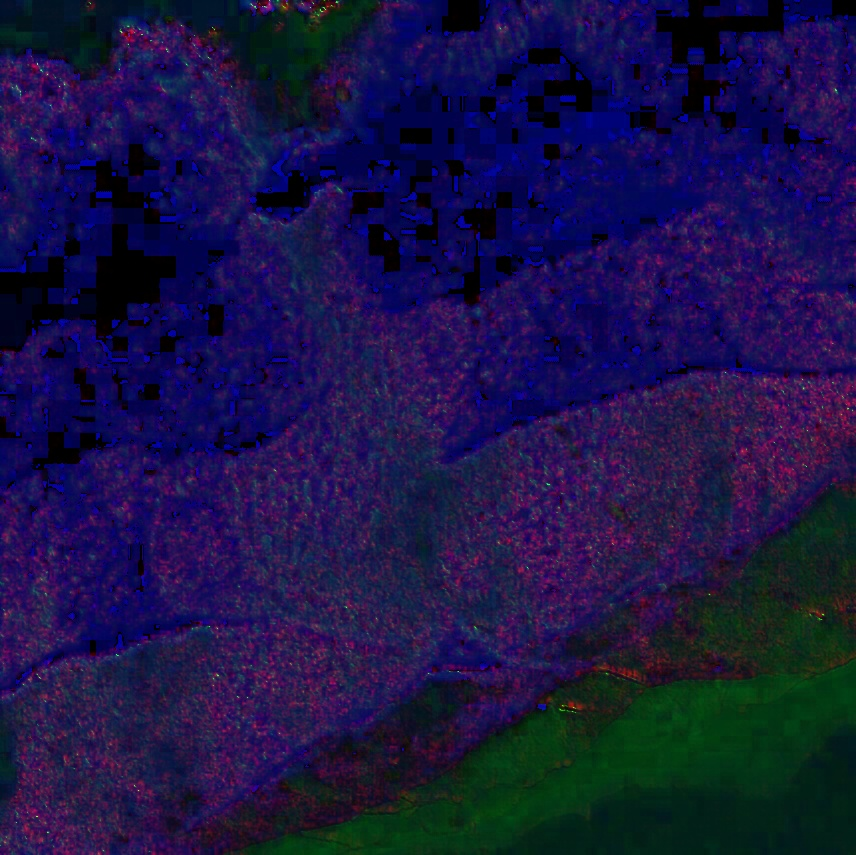rip_current: (182, 75, 547, 683)
